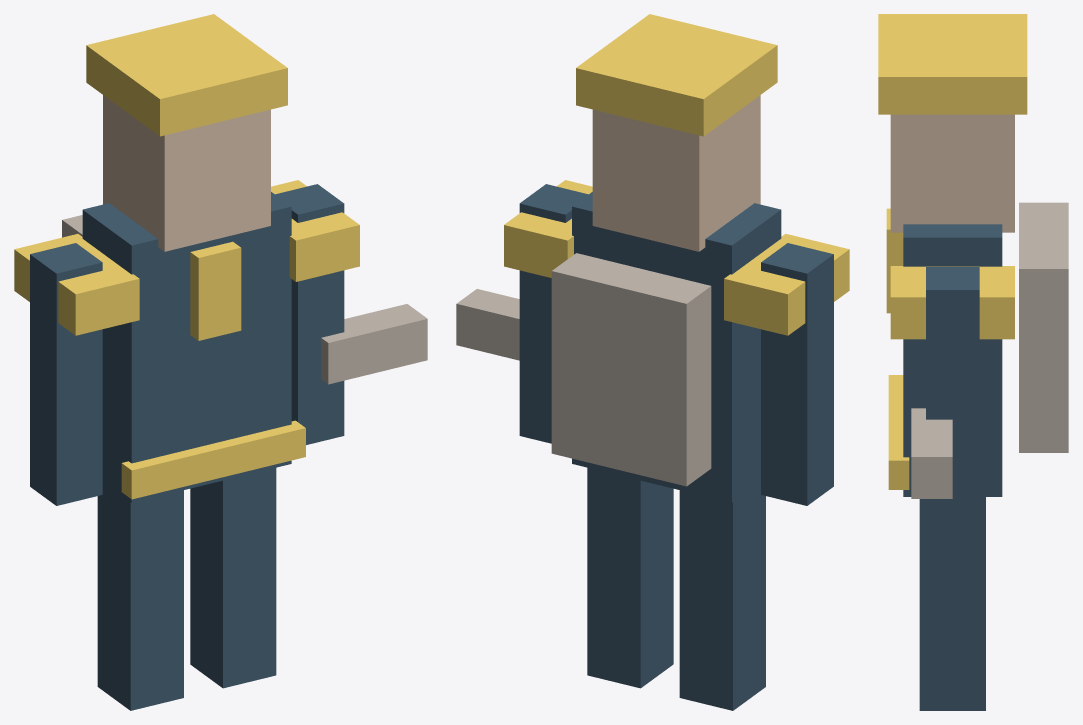
File: 13_sable_deepwell_keeper_at_rooftop.glb
3 views of the same model, side by side, from view 1: azimuth 30°, elevation 25°; view 2: azimuth 150°, elevation 25°; view 3: azimuth 270°, elevation 25° (orthographic).
Parts seen in each view (by area): view 1: Sable Deepwell, Keeper at Rooftop; view 2: Sable Deepwell, Keeper at Rooftop; view 3: Sable Deepwell, Keeper at Rooftop.
Part boxes in pixels (bbox=[...]): Sable Deepwell, Keeper at Rooftop: bbox=[14, 14, 427, 710]; Sable Deepwell, Keeper at Rooftop: bbox=[456, 14, 849, 710]; Sable Deepwell, Keeper at Rooftop: bbox=[878, 14, 1068, 710].
Bounding box in the file's own units: 1.04 × 1.71 × 0.4671.
